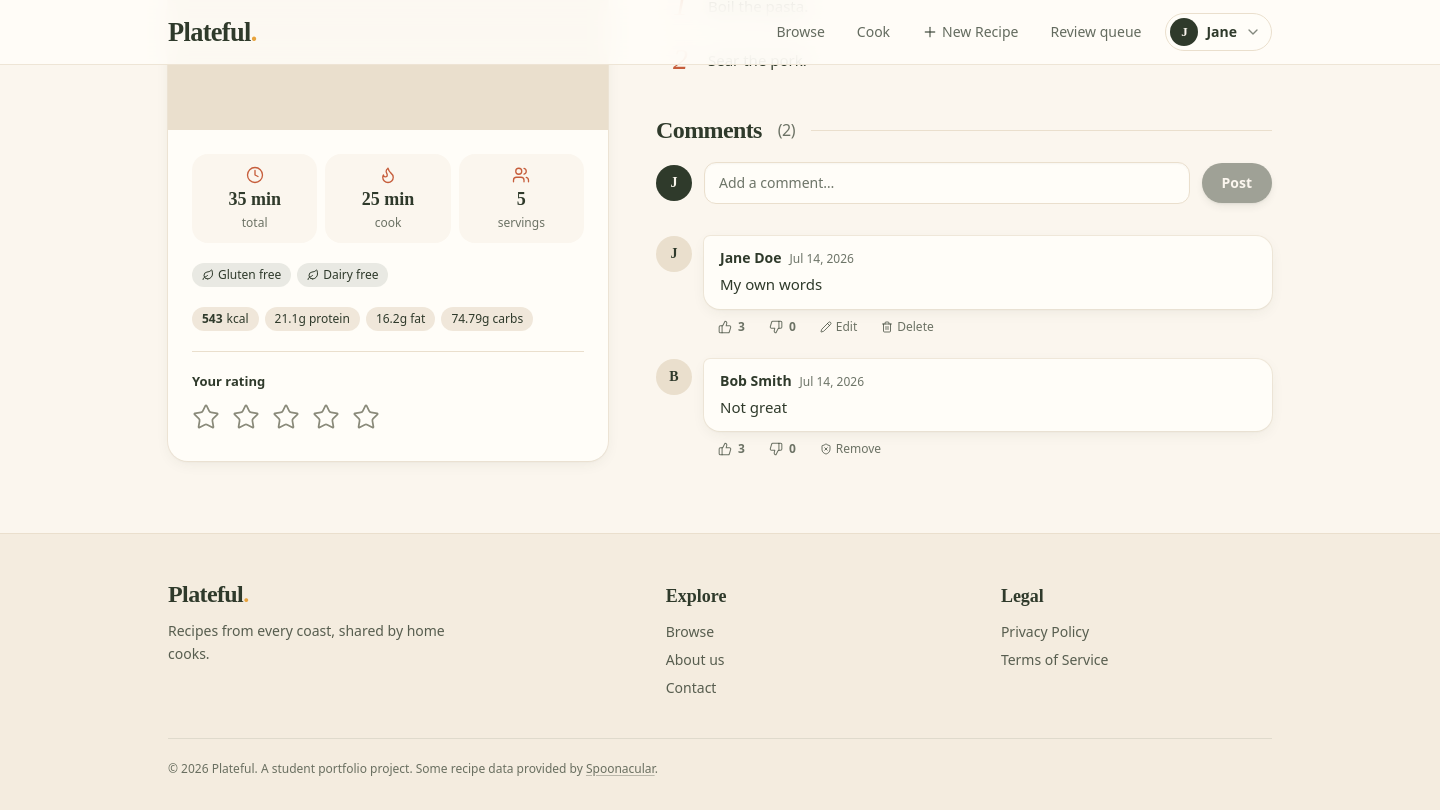
Test: removing a comment › the dialog needs a reason, posts it, toasts, and the comment disappears after the refetch
(page scrolled)
Click the button named "remove comment by" at (850, 449), box top-left (810, 437), bottom-right (891, 461)
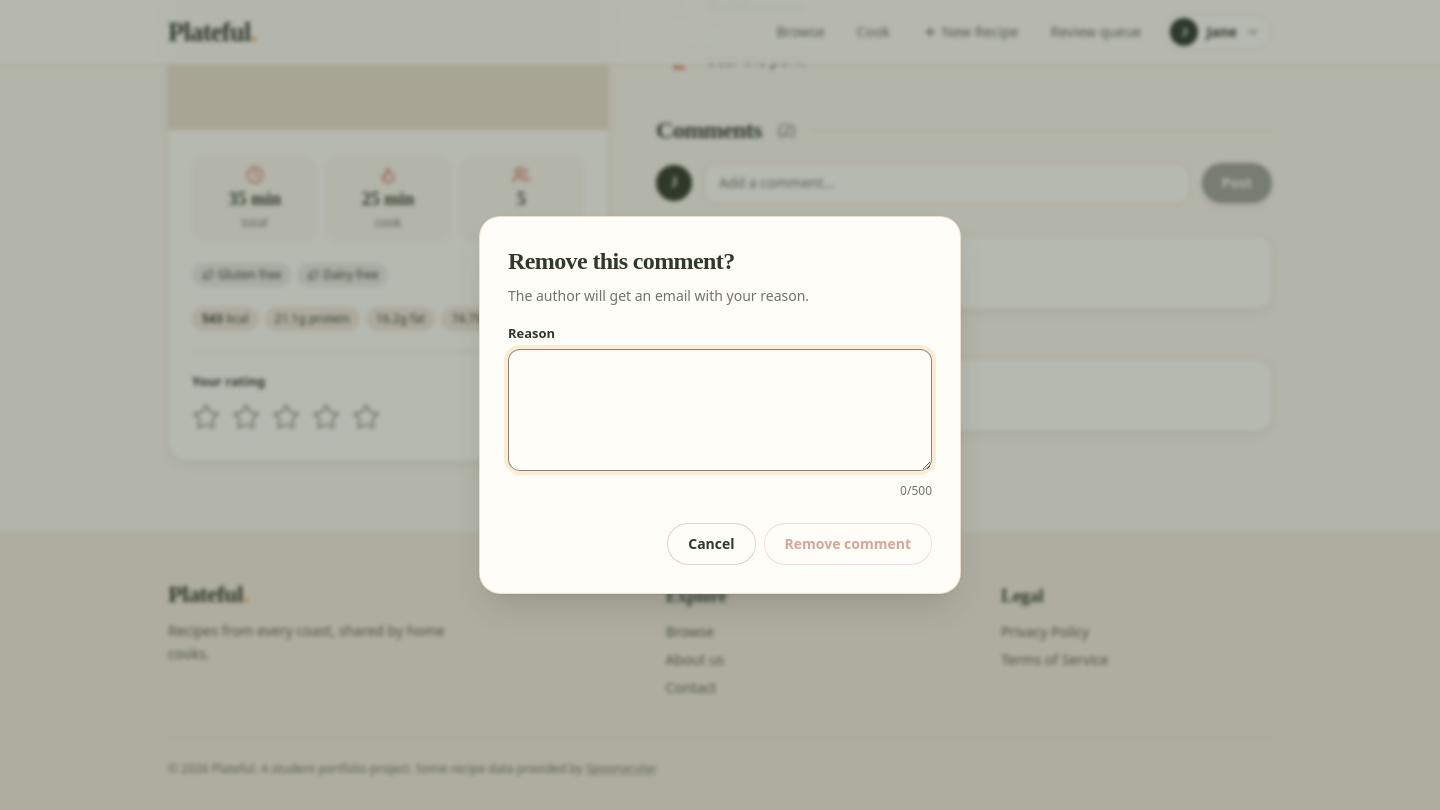
expect the heading "Remove this comment?" is shown: met, box top-left (508, 248), bottom-right (735, 274)
expect the text "The author will get an email with your reason." is shown: met, box top-left (508, 286), bottom-right (809, 305)
expect the button "Remove comment" is disabled: met, box top-left (764, 523), bottom-right (932, 565)
Type "Abusive" into the text box labelled "Reason" at (720, 410), box top-left (508, 349), bottom-right (932, 471)
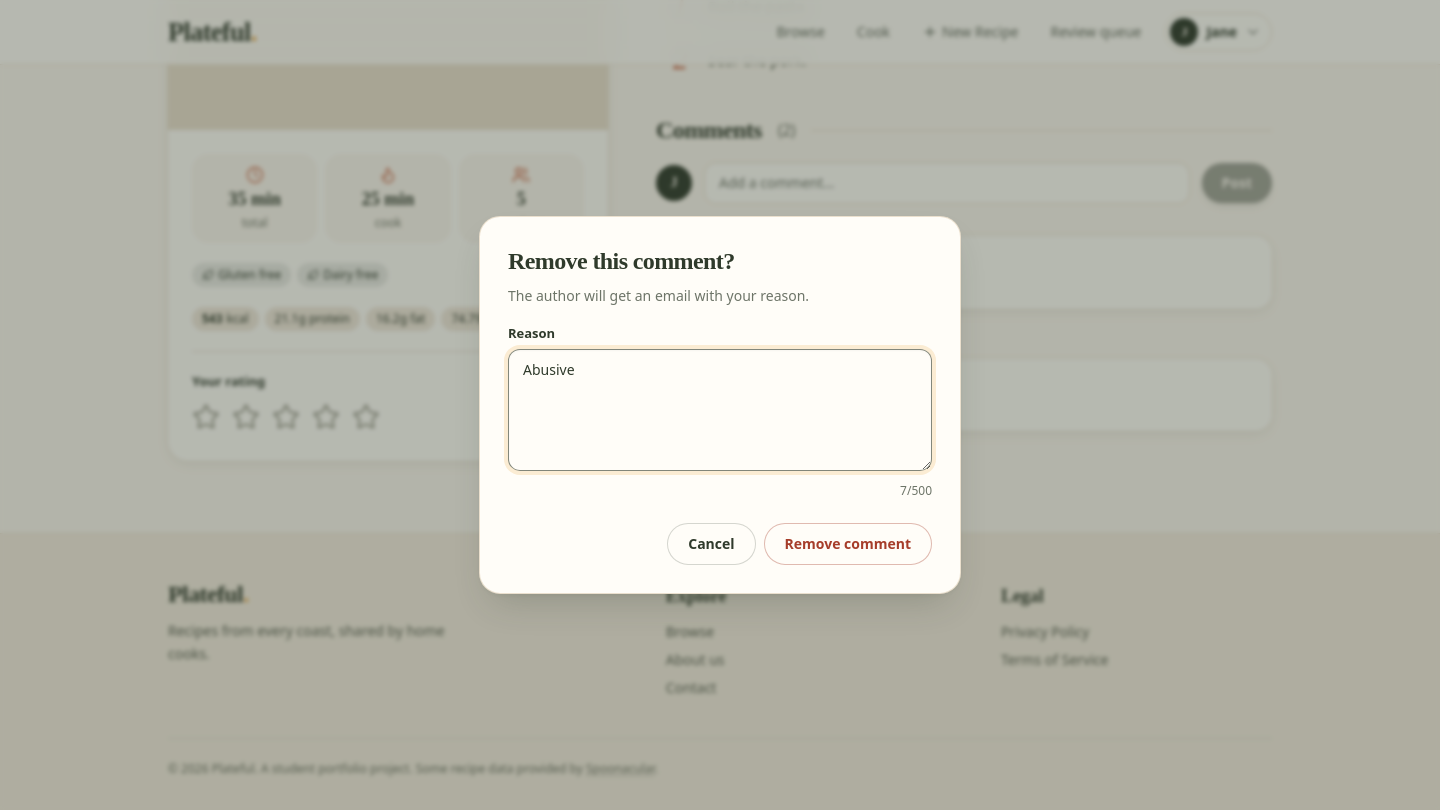
Click the button "Remove comment" at (848, 544), box top-left (764, 523), bottom-right (932, 565)
(page scrolled)
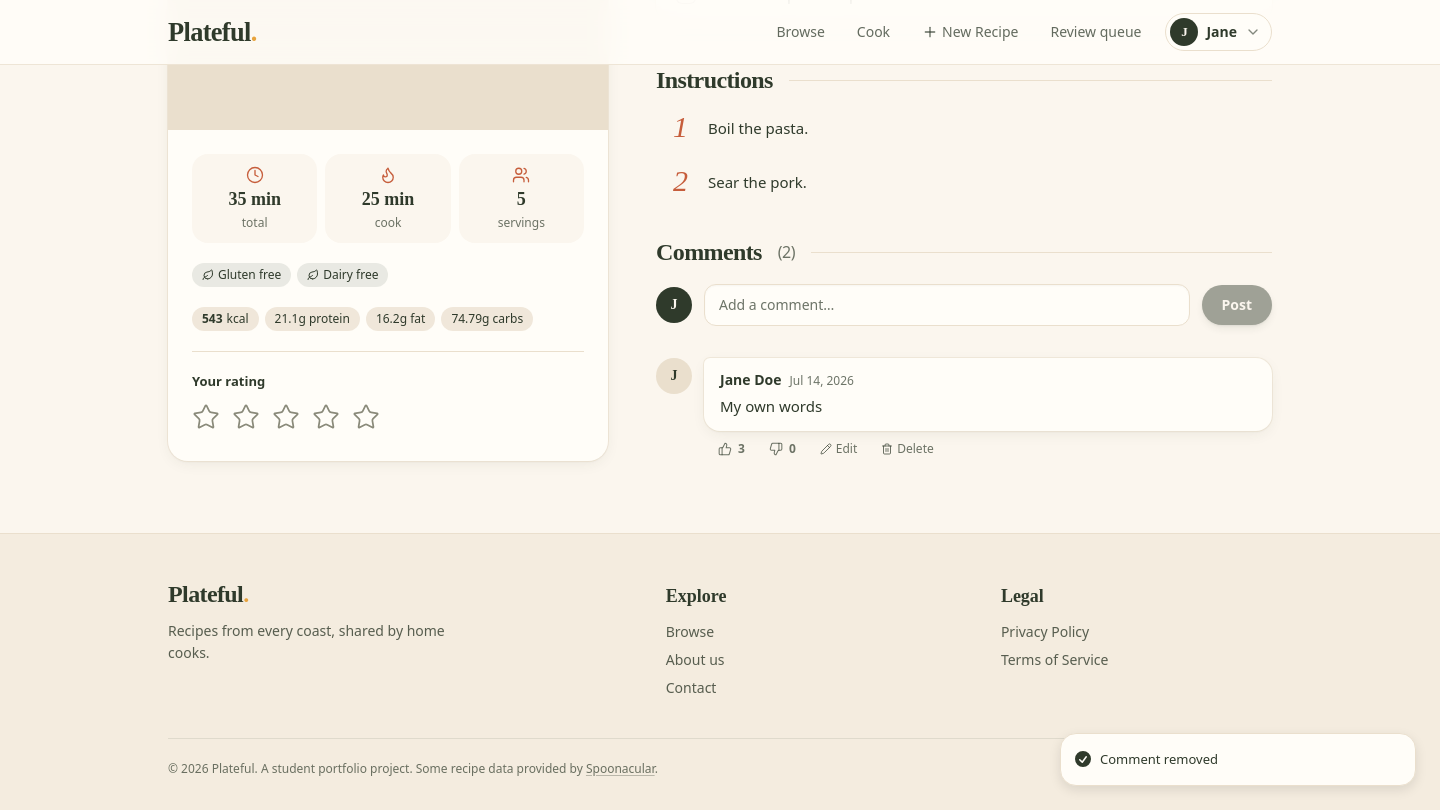
expect the text "Comment removed" is shown: met, box top-left (1100, 750), bottom-right (1218, 769)
expect the text "Not great" is gone: met
expect the dialog is gone: met
